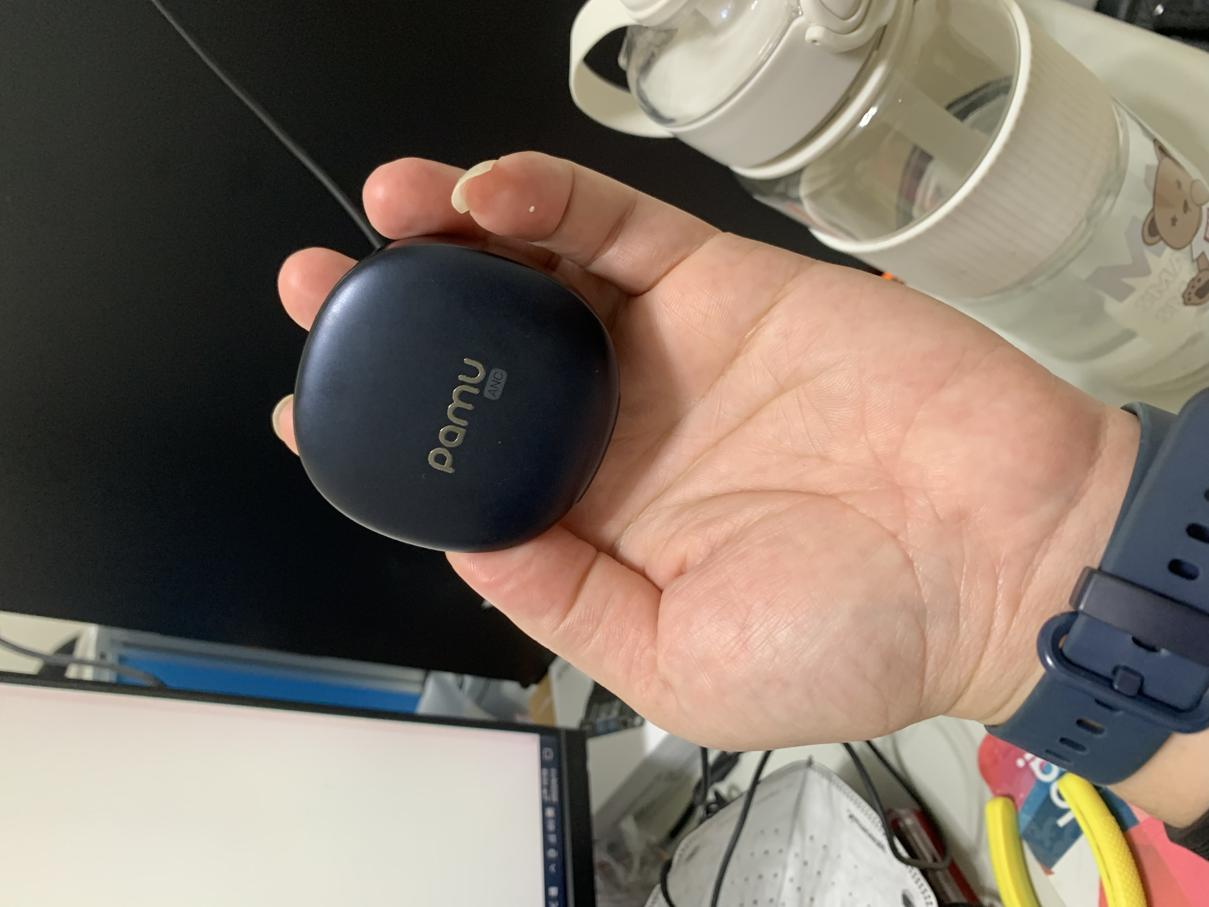pami: (282, 239, 623, 564)
